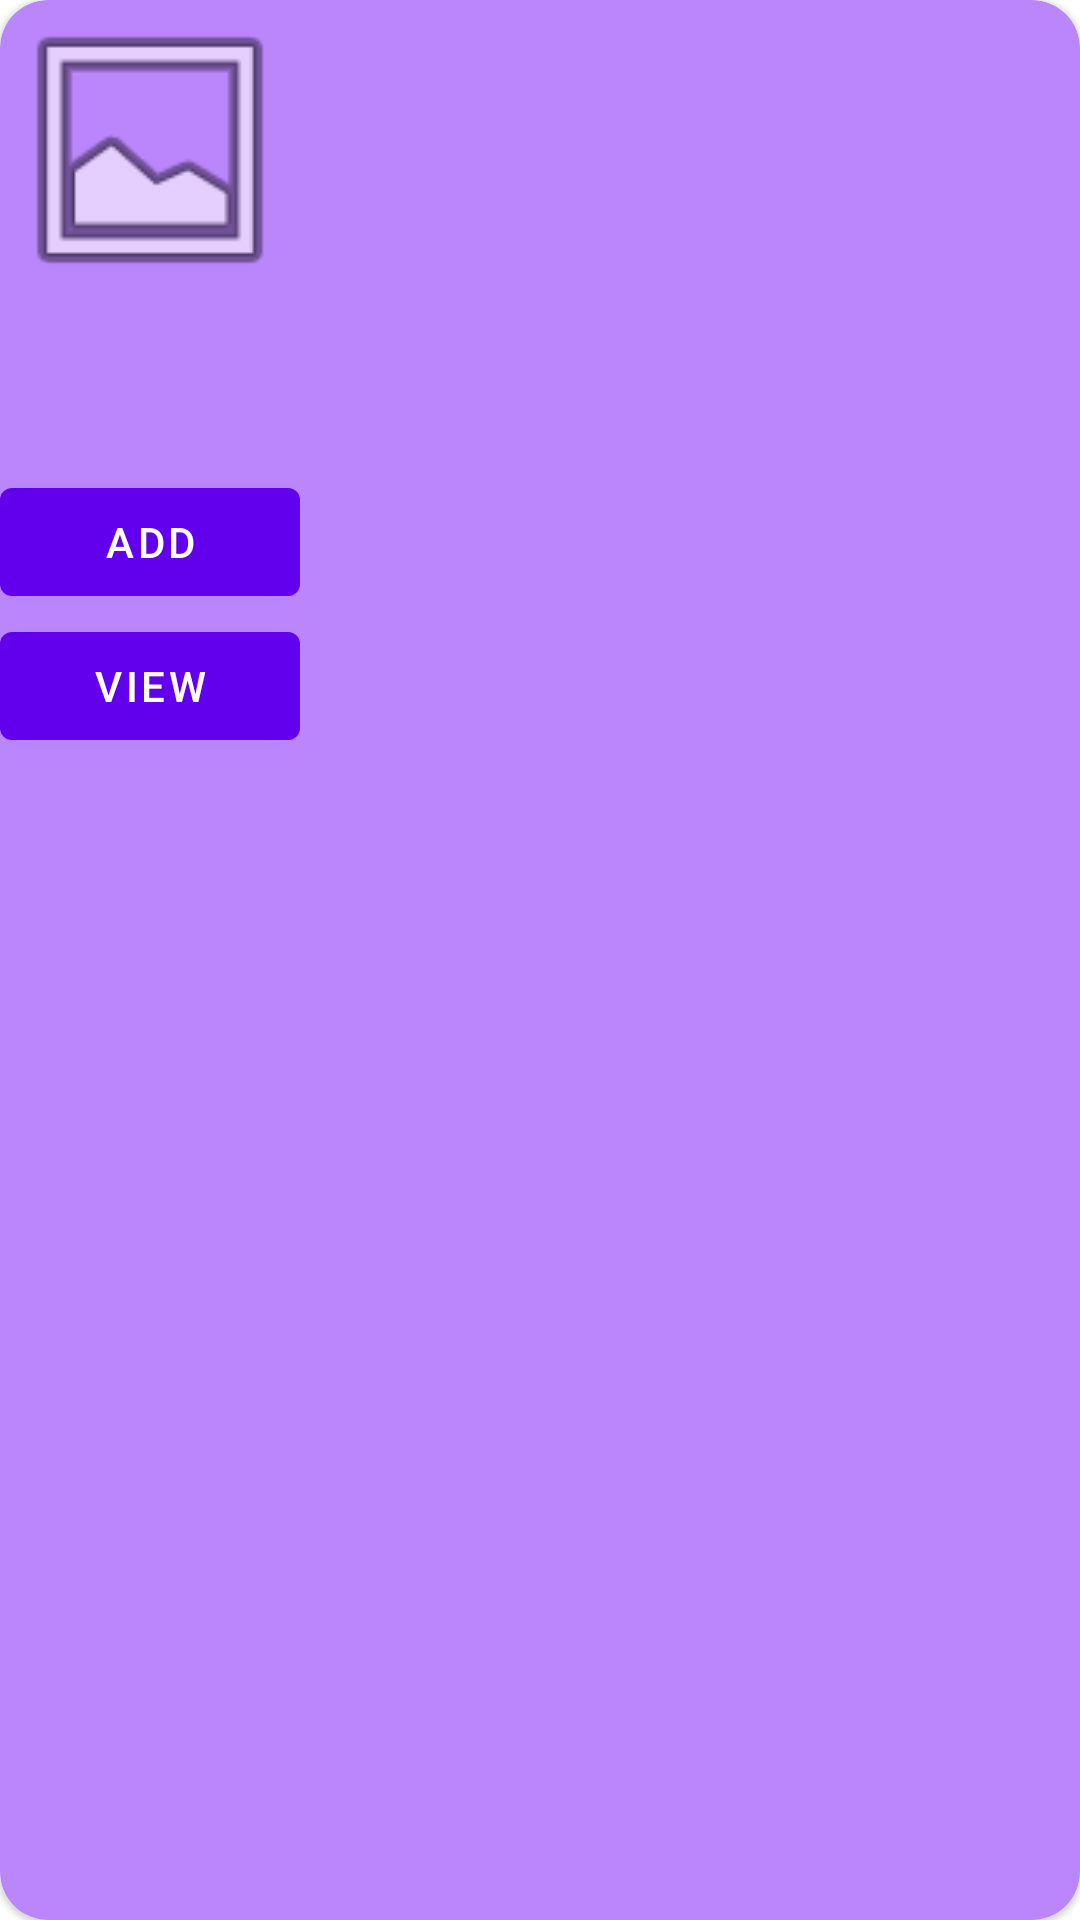

Screen size 1080 × 1920. Icon name, then its box in pixels as [x1, y1, x2, y2]:
gallery: [0, 0, 263, 263]
